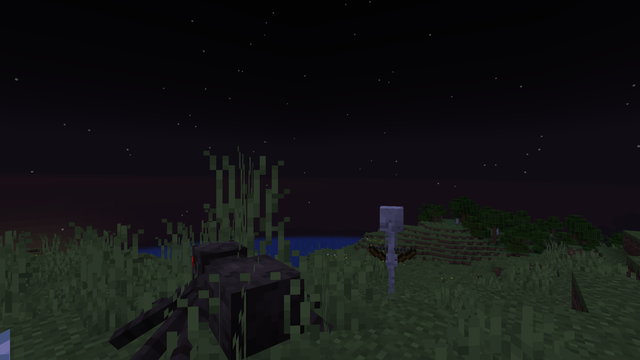araignees: (133, 229, 322, 359)
squelettes: (373, 205, 409, 299)
